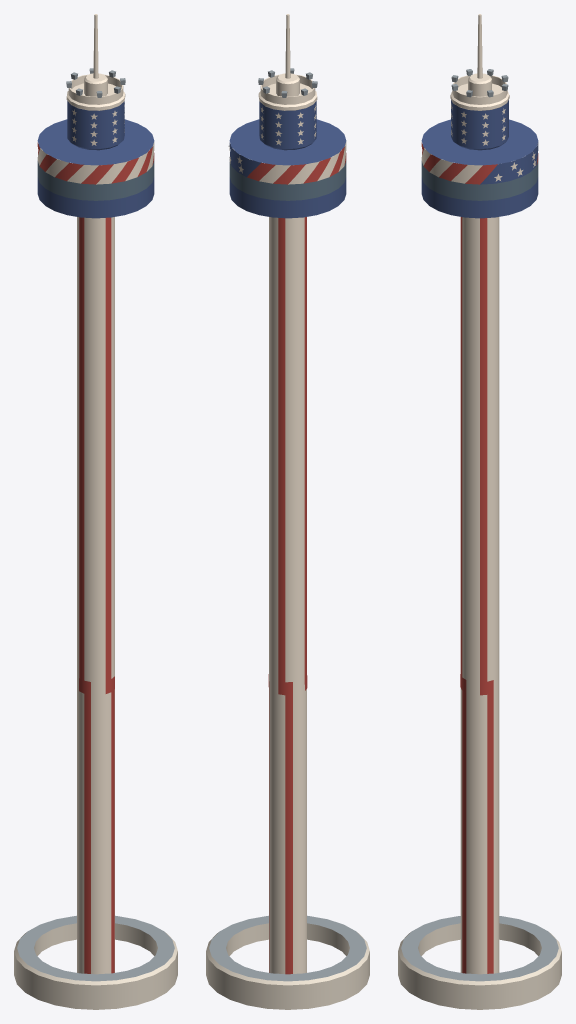
File: carowinds-skytower.glb
3 renders of one model, left to right at view 1: azimuth 30°, elevation 25°; view 2: azimuth 150°, elevation 25°; view 3: azimuth 270°, elevation 25°, orthographic.
Parts seen in each view (by area): view 1: Carolina Skytower, cabin; view 2: Carolina Skytower, cabin; view 3: Carolina Skytower, cabin.
Part boxes in pixels (x1=…): Carolina Skytower: x1=14, y1=14, x2=177, y2=1009; cabin: x1=37, y1=119, x2=154, y2=218; Carolina Skytower: x1=206, y1=14, x2=369, y2=1009; cabin: x1=228, y1=119, x2=346, y2=218; Carolina Skytower: x1=398, y1=14, x2=561, y2=1009; cabin: x1=421, y1=119, x2=538, y2=218.
Size of the model in its own units: 13.6 by 88.5 by 13.6.
